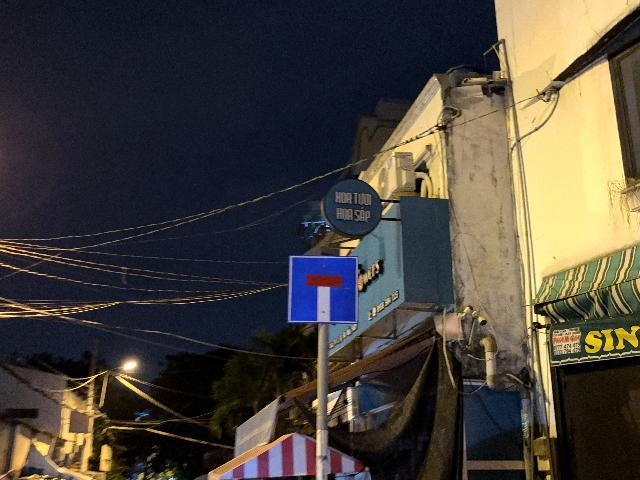duong-cut: (287, 256, 358, 324)
